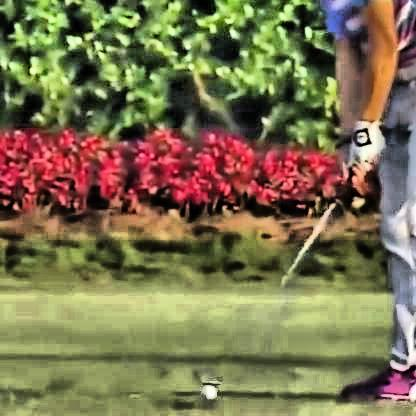golfball: (198, 379, 216, 398)
